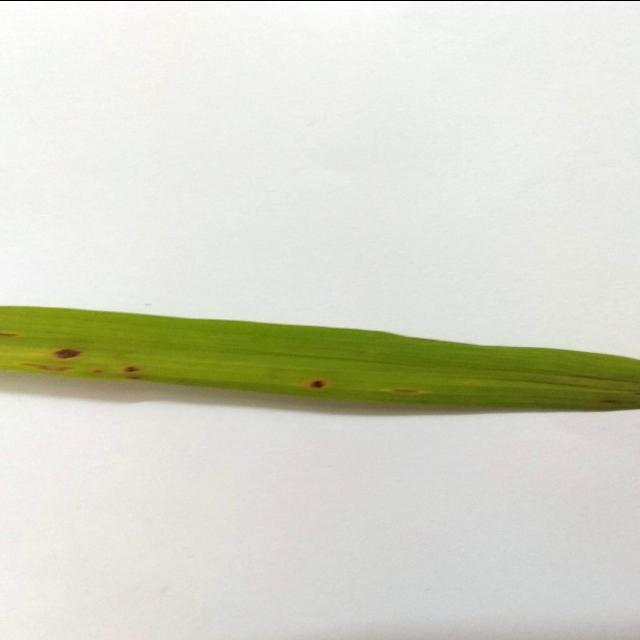Brown spot: (0, 300, 640, 415)
